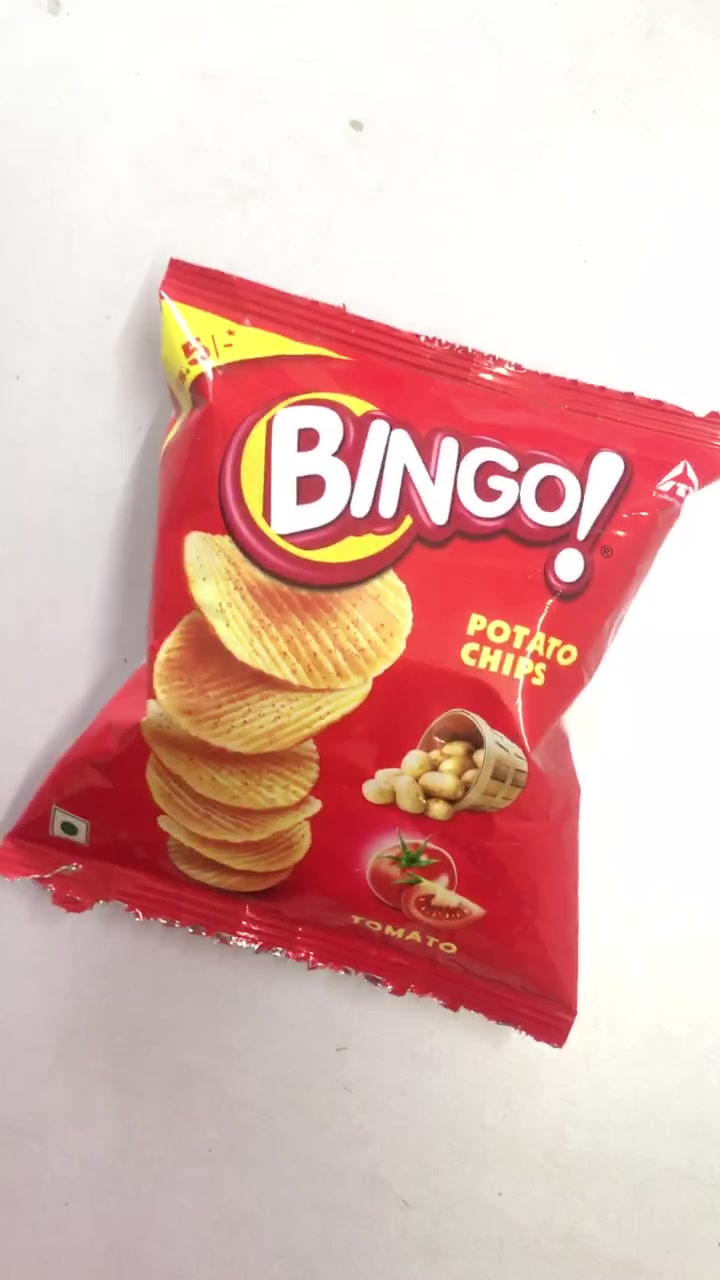Bingo: (8, 259, 720, 1044)
